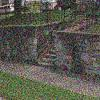stairs: (38, 45, 58, 68)
